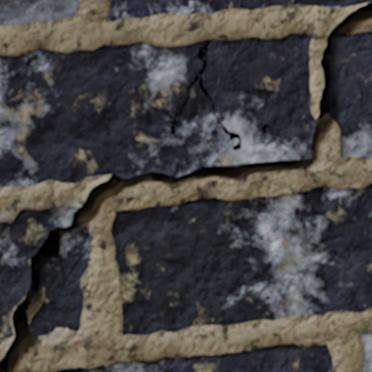brick: (0, 34, 314, 185), (112, 184, 371, 334), (60, 345, 292, 371), (108, 0, 371, 21), (331, 32, 371, 157), (0, 0, 77, 24), (283, 345, 332, 371), (361, 334, 371, 371)
broken_brick: (0, 206, 74, 339), (31, 225, 92, 336)
crack: (0, 1, 371, 371), (166, 39, 241, 151), (69, 241, 91, 275), (279, 345, 296, 371)
